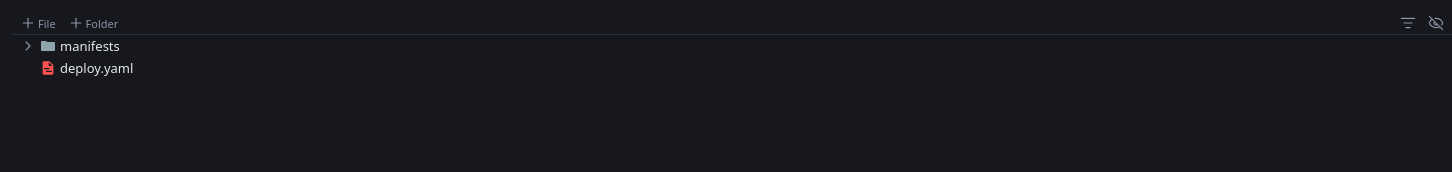
Test: deleting with confirmation › cancels the confirmation without deleting
Right-click the list item "deploy.yaml" at (87, 68), box x1=40 y1=59 x2=133 y2=77
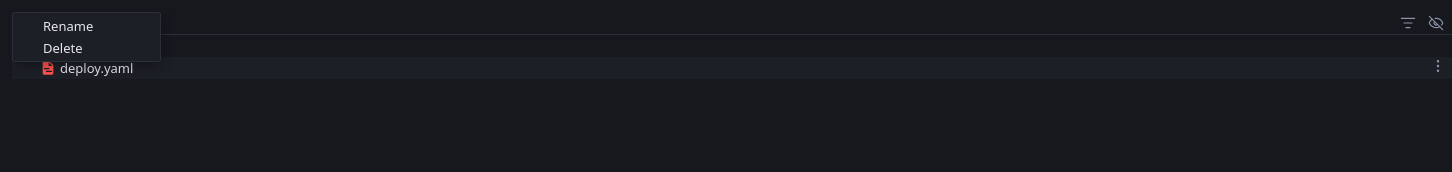
Click the menu item "Delete" at (86, 48), box x1=15 y1=37 x2=158 y2=59
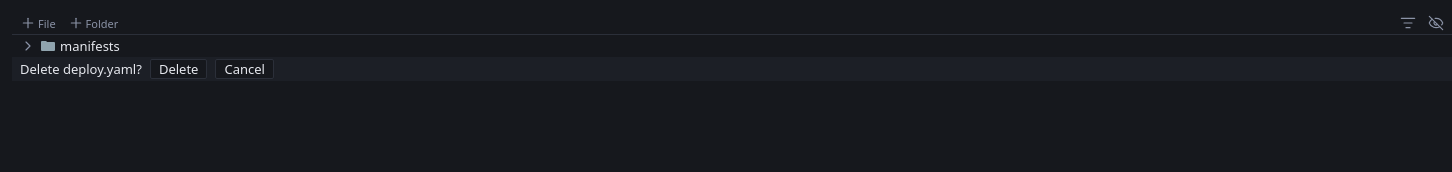
Click the button "Cancel" at (245, 69), box x1=215 y1=59 x2=274 y2=79
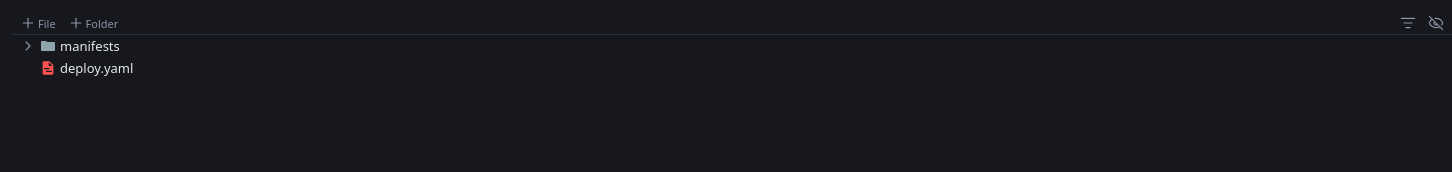
Check: the text "Delete deploy.yaml?" is gone
